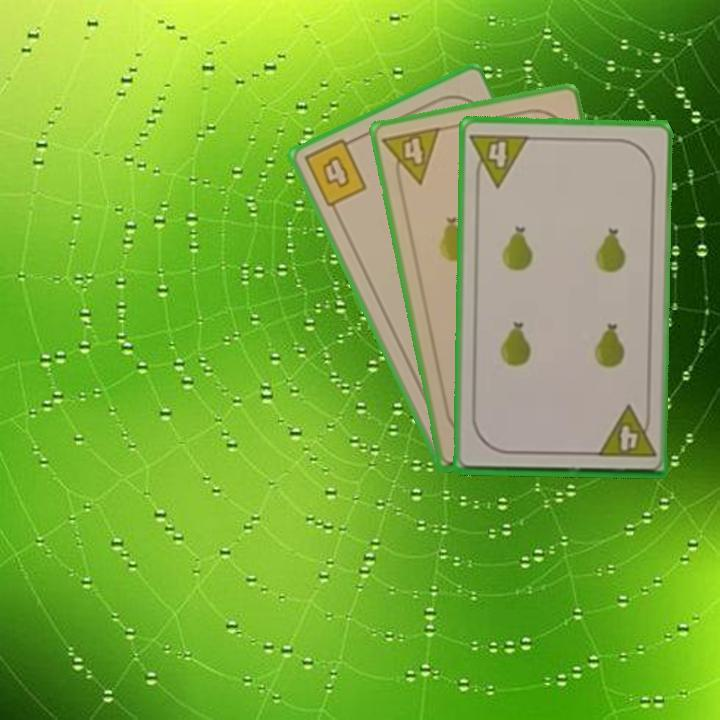4b: (300, 133, 370, 210)
4p: (379, 123, 444, 191), (467, 129, 532, 190), (593, 403, 658, 461)
